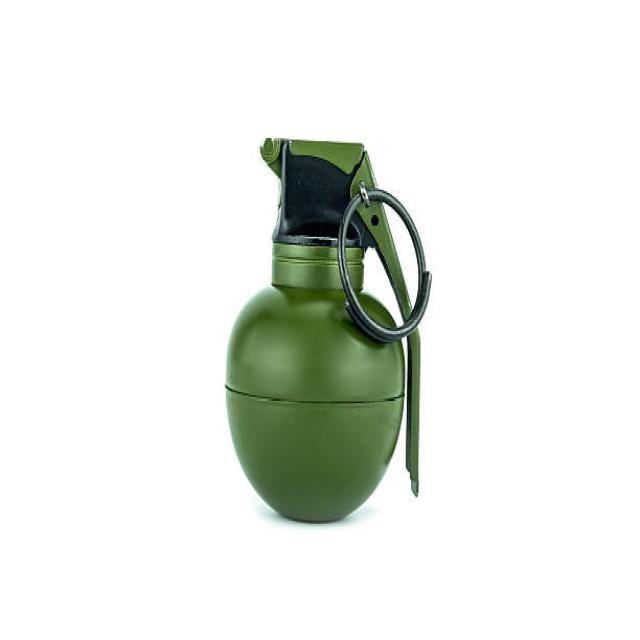grenade: (216, 120, 437, 531)
